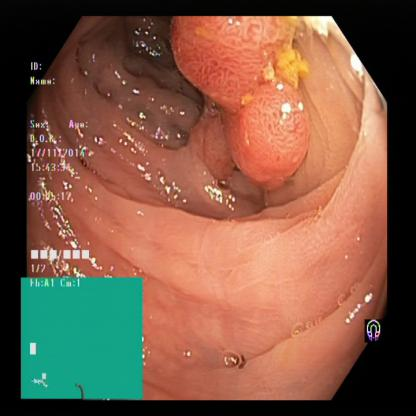Labels: (27, 57, 103, 276), (22, 274, 143, 397), (354, 303, 388, 352)
Polyps: (224, 85, 322, 192), (174, 15, 300, 90)
